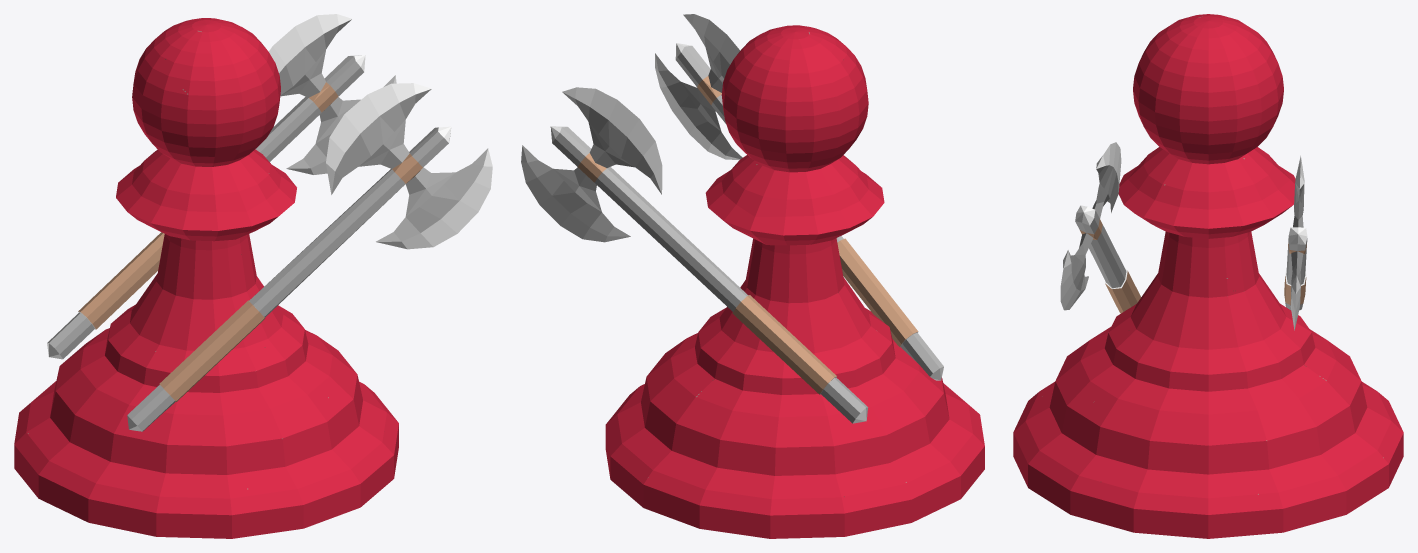
The model's file is FFBrute.fbx.
3 views of the same model, side by side, from view 1: azimuth 30°, elevation 25°; view 2: azimuth 150°, elevation 25°; view 3: azimuth 270°, elevation 25° (orthographic). The views are drawn at different scales.
Visible parts, largest first — view 1: Pawn.001, Plane_0, Plane_0.001; view 2: Pawn.001, Plane_0.001, Plane_0; view 3: Pawn.001, Plane_0, Plane_0.001.
Part boxes in pixels (x1=…): Pawn.001: x1=14, y1=18, x2=398, y2=538; Plane_0: x1=127, y1=83, x2=492, y2=431; Plane_0.001: x1=47, y1=14, x2=396, y2=359; Pawn.001: x1=605, y1=25, x2=984, y2=538; Plane_0.001: x1=521, y1=87, x2=868, y2=423; Plane_0: x1=655, y1=14, x2=943, y2=380; Pawn.001: x1=1013, y1=14, x2=1403, y2=538; Plane_0: x1=1060, y1=142, x2=1141, y2=313; Plane_0.001: x1=1284, y1=155, x2=1307, y2=330.
Size of the model in its own units: 563 by 578 by 470.
